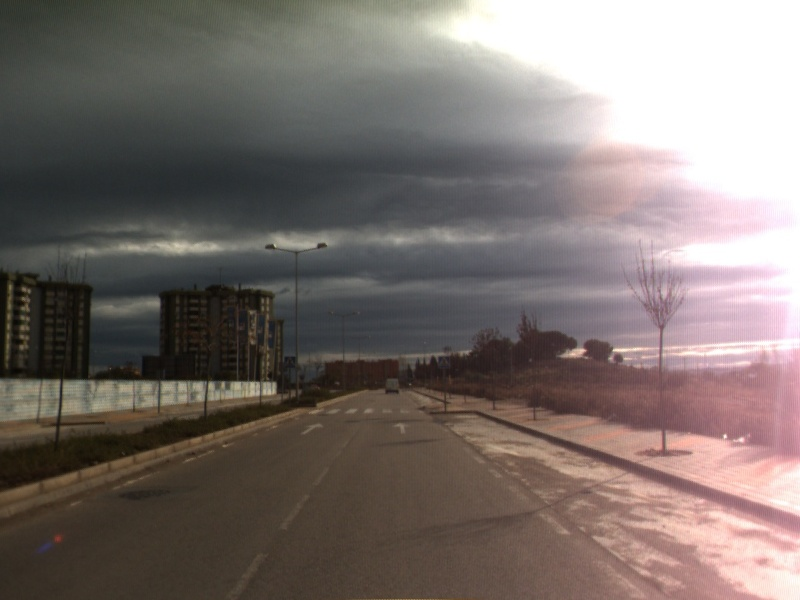STRAIGHT: (298, 421, 326, 437), (390, 420, 413, 435)
